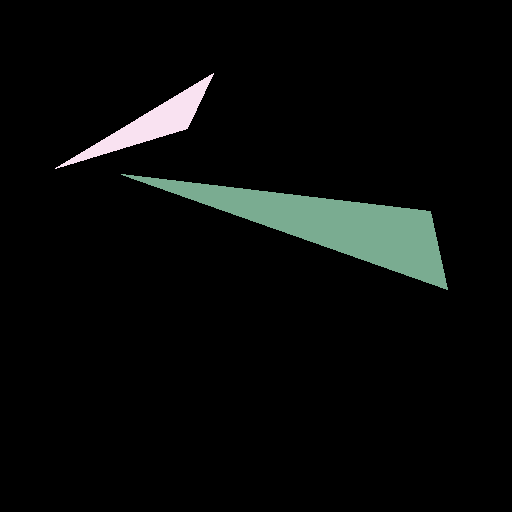triangle: (121, 174, 447, 289), (55, 73, 213, 168)
